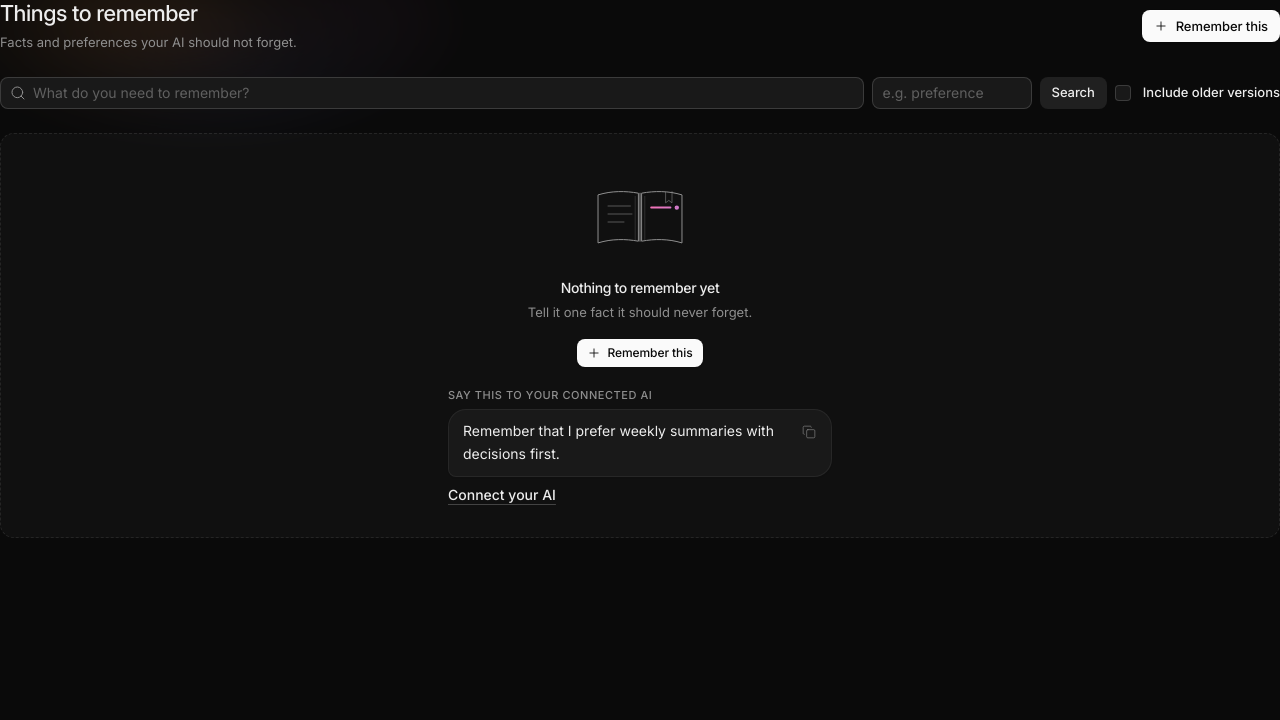
MemoriesPage › opens memory creation from the primary page action
Click the button "Remember this" in the row of "Things to remember": x=1211, y=26 [1142,10,1279,42]
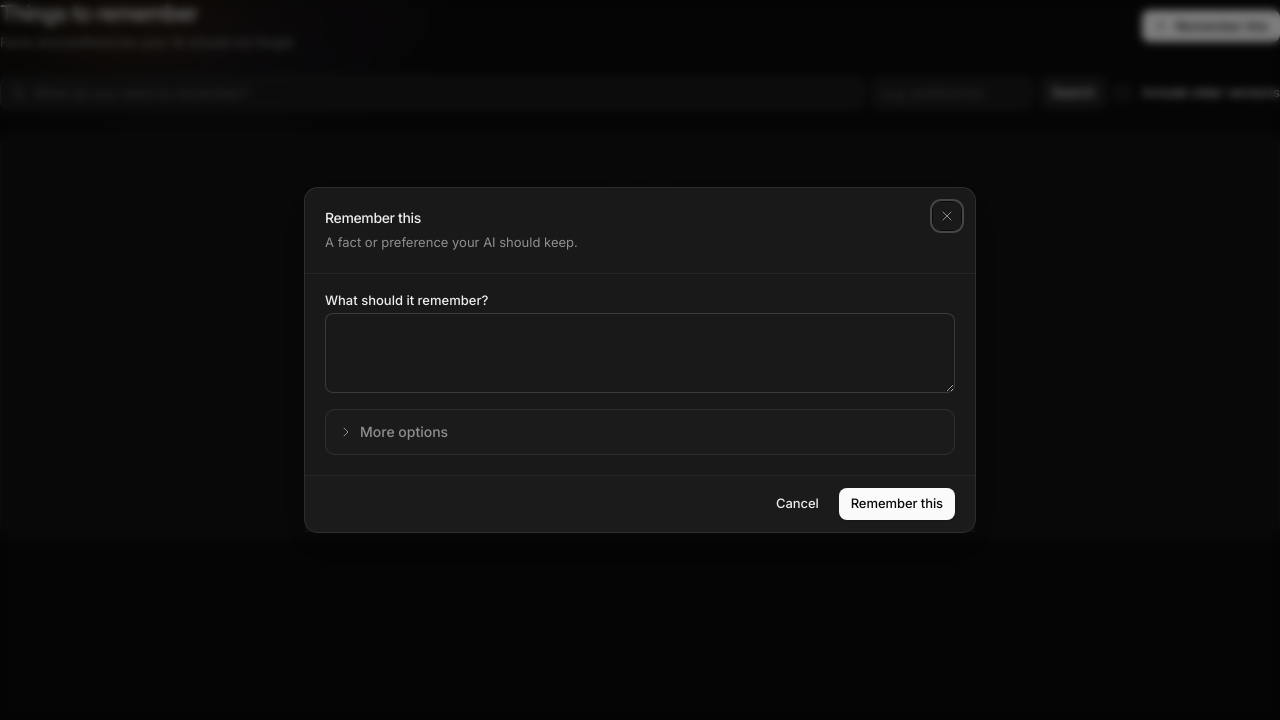
Expected: the dialog "Remember this" is shown, [304,187,976,533]
Expected: the text box labelled "What should it remember?" is shown, [325,313,955,393]
